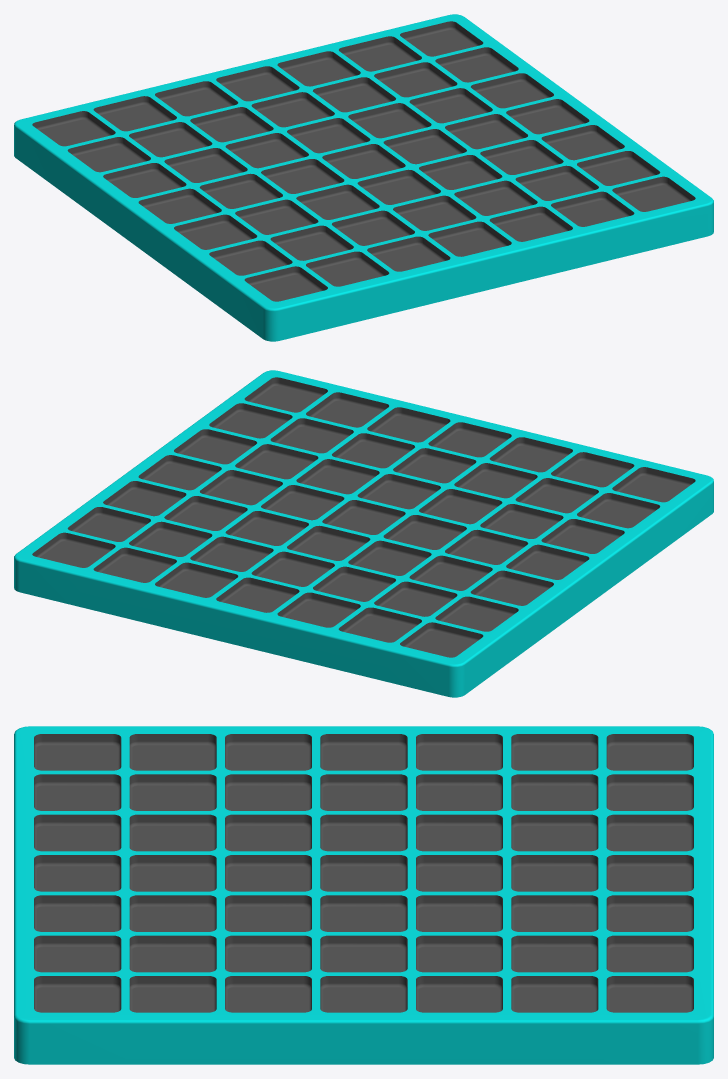
The picture shows the model from 3 angles, top to bottom: view 1: azimuth 30°, elevation 25°; view 2: azimuth 150°, elevation 25°; view 3: azimuth 270°, elevation 25°; orthographic projection. The views are drawn at different scales.
Parts seen in each view (by area): view 1: Grid7New; view 2: Grid7New; view 3: Grid7New.
Boxes of the visible parts, x1,y1,x2,y2 form: Grid7New: [14, 14, 713, 341]; Grid7New: [14, 370, 713, 697]; Grid7New: [14, 726, 713, 1064].
Size of the model in its own units: 25.19 by 1.72 by 25.19.
